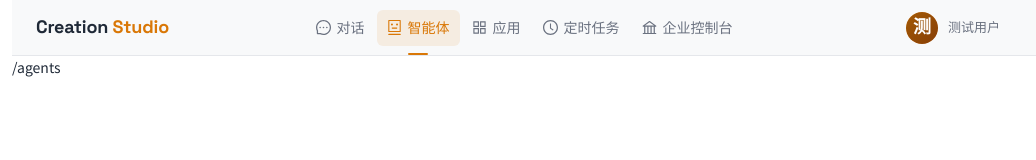
Test case: Header navigation › preserves the desktop 对话 behavior that opens the default chat agent
Click the button with class "header-nav-item" showing "对话": click(340, 28) 306,10 -> 374,46
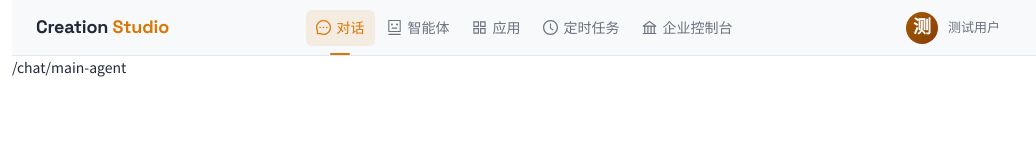
Now the text with test id "location" reads "/chat/main-agent", box 12,57 -> 126,77
